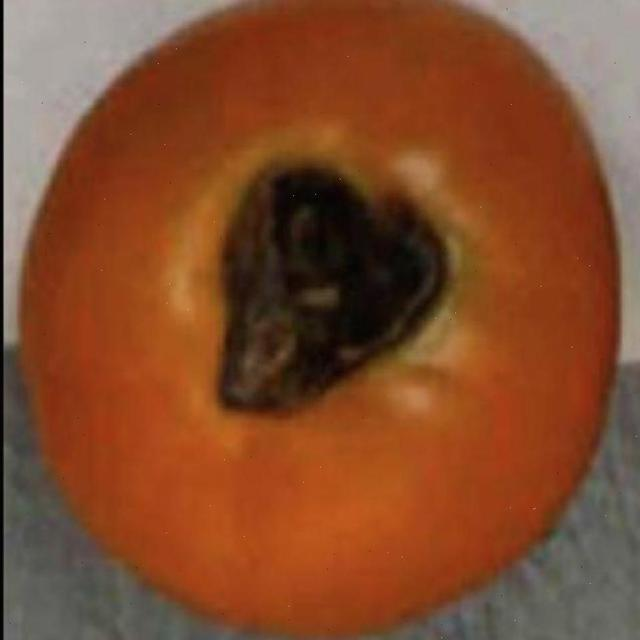Blossom End Rot Fruit: (126, 114, 318, 280)
